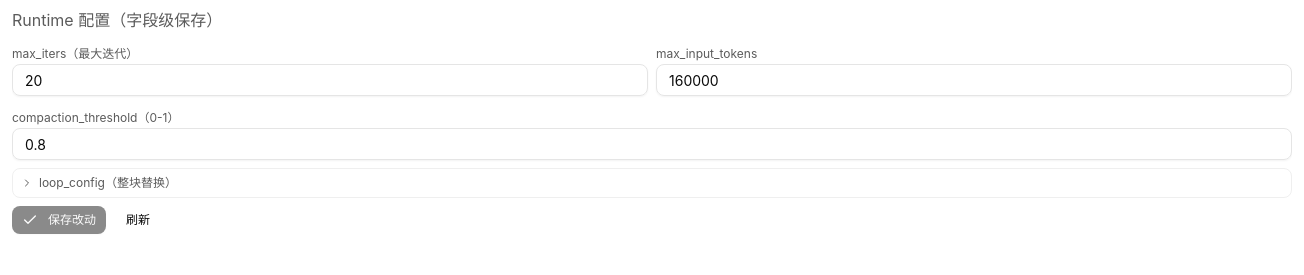
it: B5 WorkerRuntimeConfigPanel（#1231 消费） › ⑦ 非法输入（max_iters=0）→ 内联校验错误 + 保存禁用
Check: the text "Runtime 配置（字段级保存）" is shown, box [12, 8, 222, 32]
Replace the text in the number field showing "20" with "0" at (330, 80), box [12, 64, 648, 96]
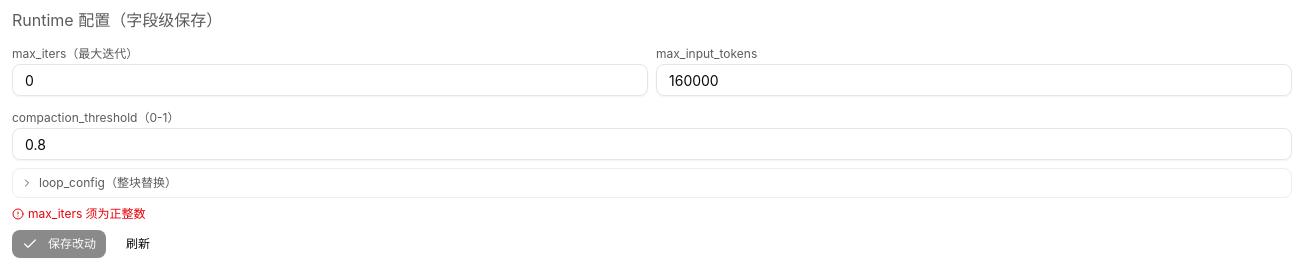
Check: the button "保存改动" is disabled, box [12, 230, 106, 258]
Check: the text "max_iters 须为正整数" is shown, box [12, 206, 146, 221]
